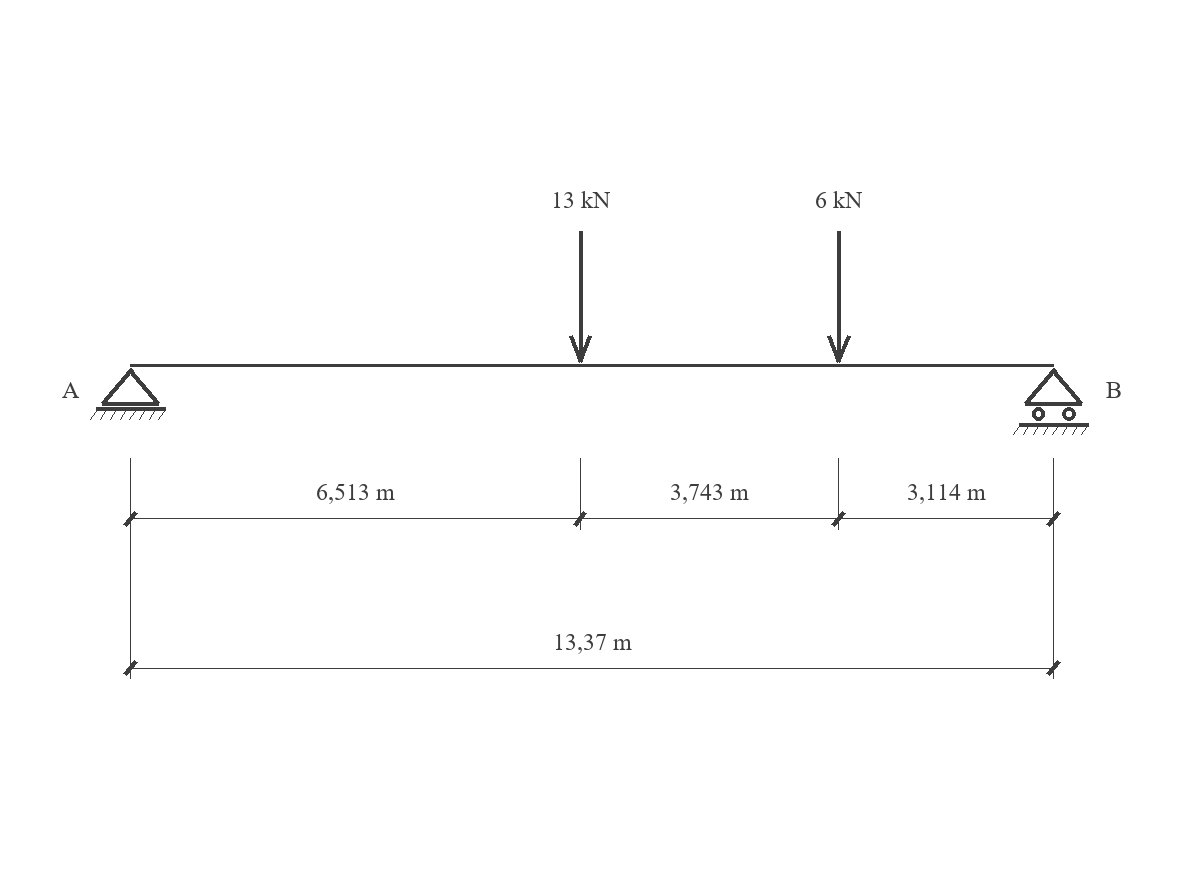pin_support: (90, 368, 166, 420)
point_load: (827, 231, 851, 363), (569, 231, 592, 363)
roller_support: (1013, 368, 1089, 435)
